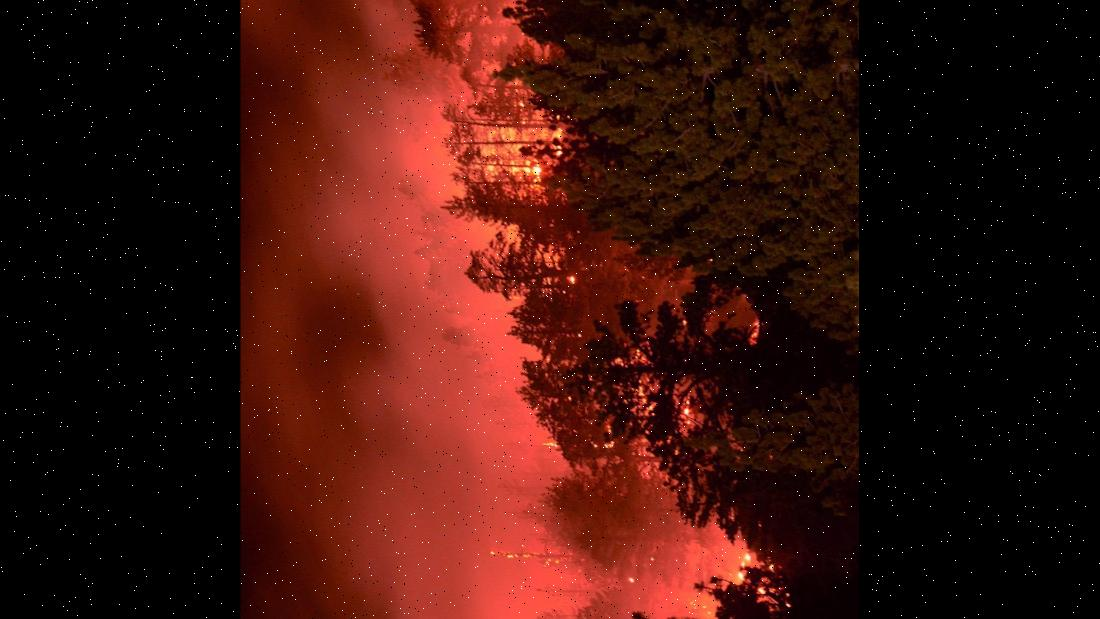fire: (429, 0, 581, 209), (674, 522, 800, 619)
